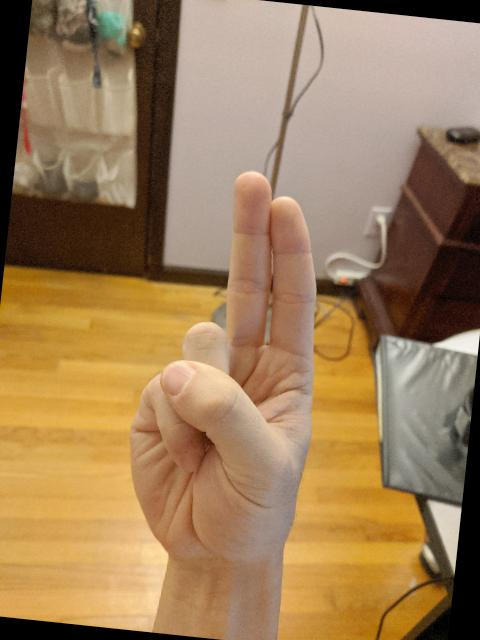U: (112, 154, 346, 576)
